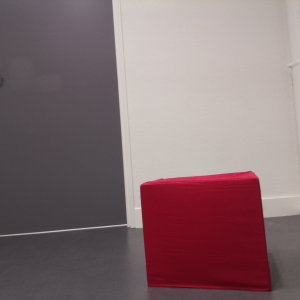medium: (138, 170, 277, 293)
